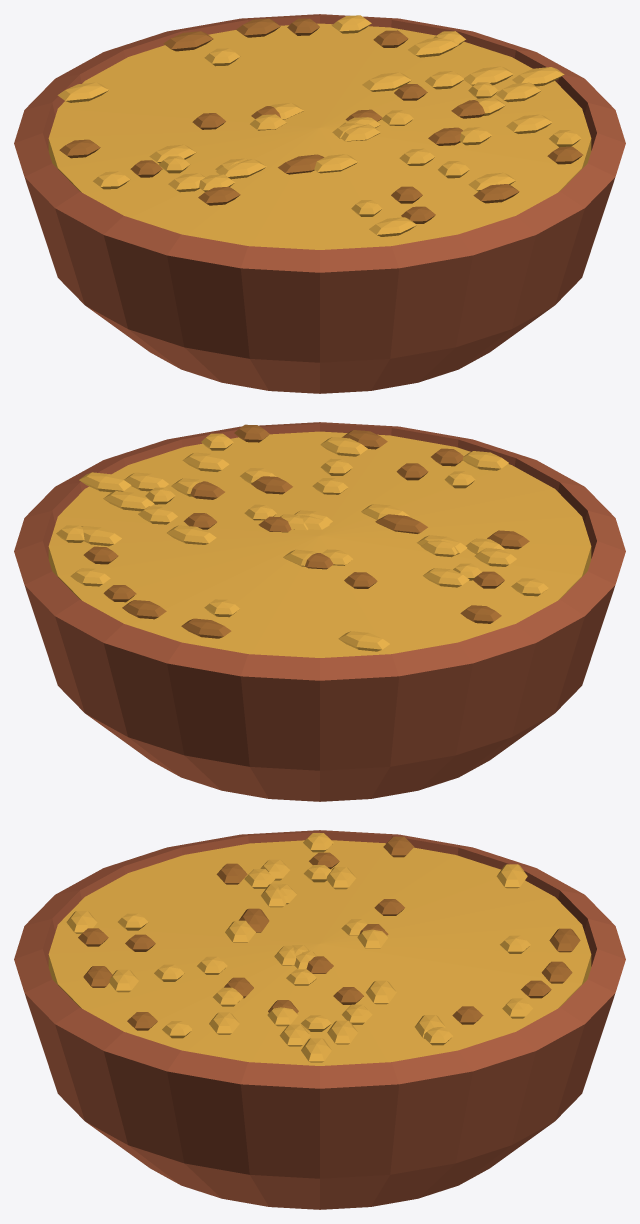
File: food_pastel_runtime.glb
3 renders of one model, top to bottom at view 1: azimuth 30°, elevation 25°; view 2: azimuth 150°, elevation 25°; view 3: azimuth 270°, elevation 25°, orthographic.
Parts seen in each view (by area): view 1: Pastel de choclo; view 2: Pastel de choclo; view 3: Pastel de choclo.
Boxes of the visible parts, <box> form: Pastel de choclo: <box>14,14,625,393</box>; Pastel de choclo: <box>14,422,625,801</box>; Pastel de choclo: <box>14,830,625,1209</box>.
Size of the model in its own units: 1.06 by 0.36 by 1.06.
